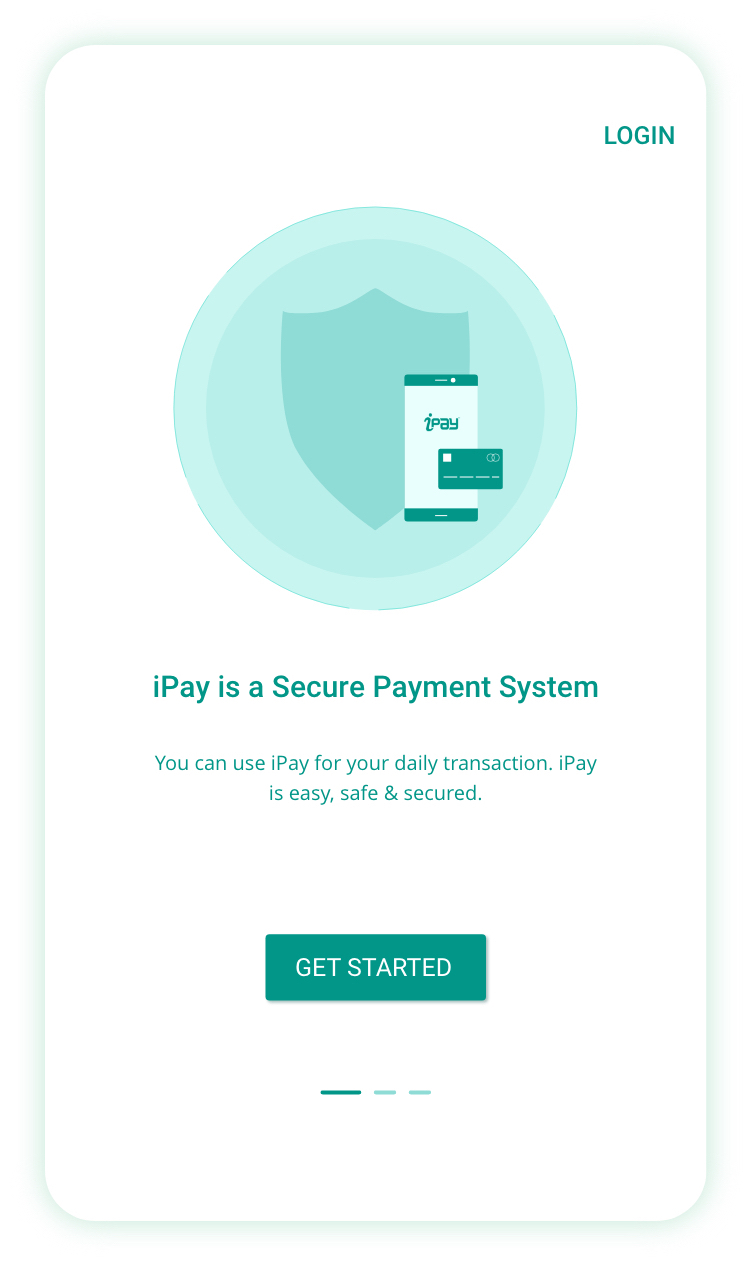Card: (44, 45, 708, 1222)
Image: (173, 206, 579, 612)
PageIndicator: (320, 1089, 432, 1096)
Text: (154, 754, 598, 806), (154, 674, 599, 705), (604, 125, 676, 147)
TextButton: (265, 934, 487, 1001)
